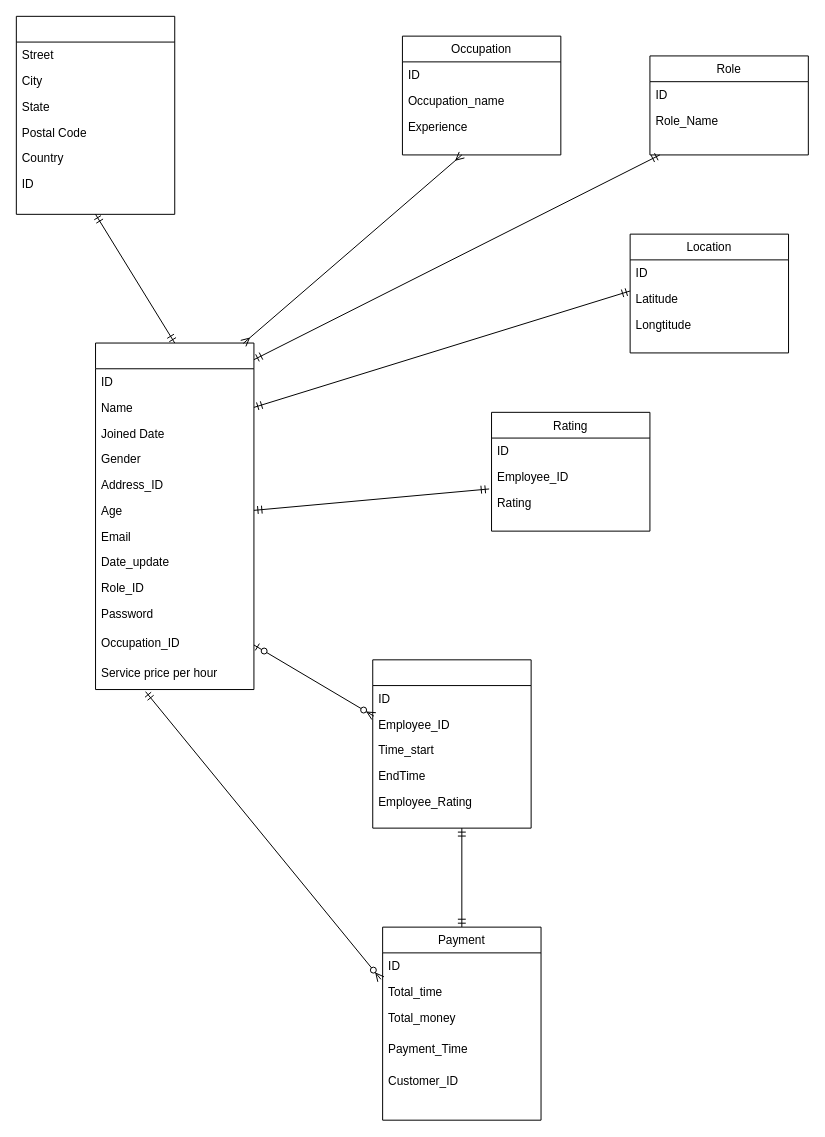
Some shapes in this 825 by 1137 pixel diagram are drawn without their labels. The box of each missing label's shape, as (x1, y1, x2, y2) in pixels:
Address: (15, 15, 175, 214)
Trip: (372, 659, 531, 828)
User: (95, 342, 254, 690)
